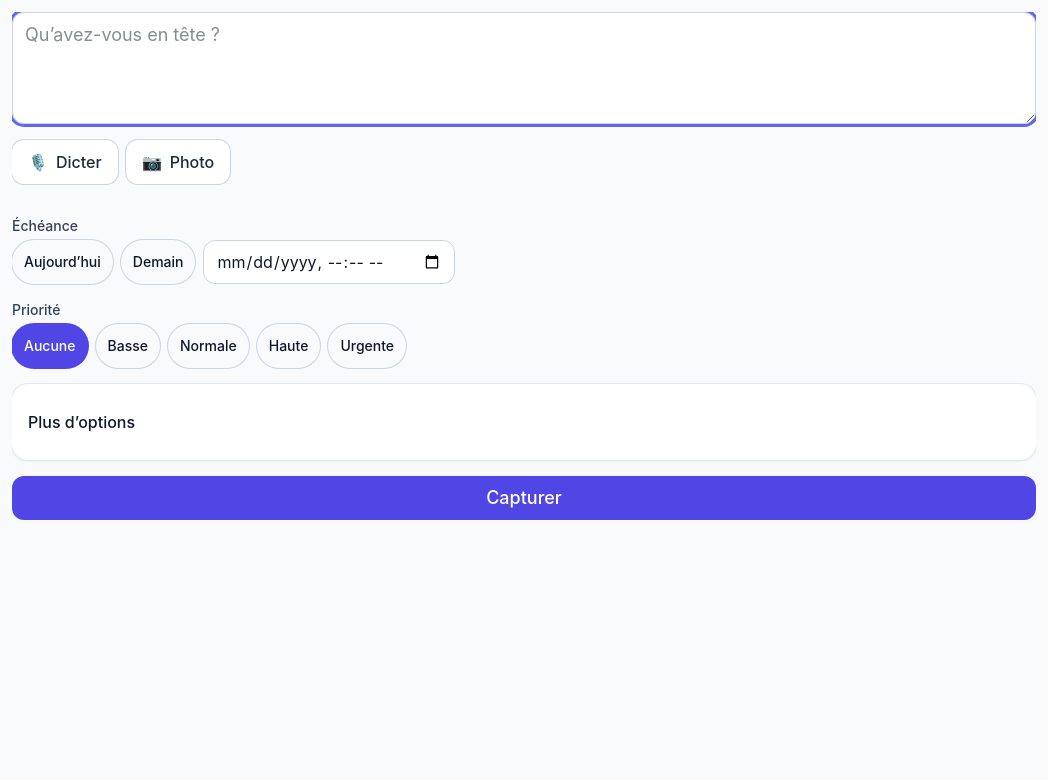
Scenario: CaptureForm › requires a title and focuses it
Click the button "Capturer" at (524, 498), box [12,476,1036,520]
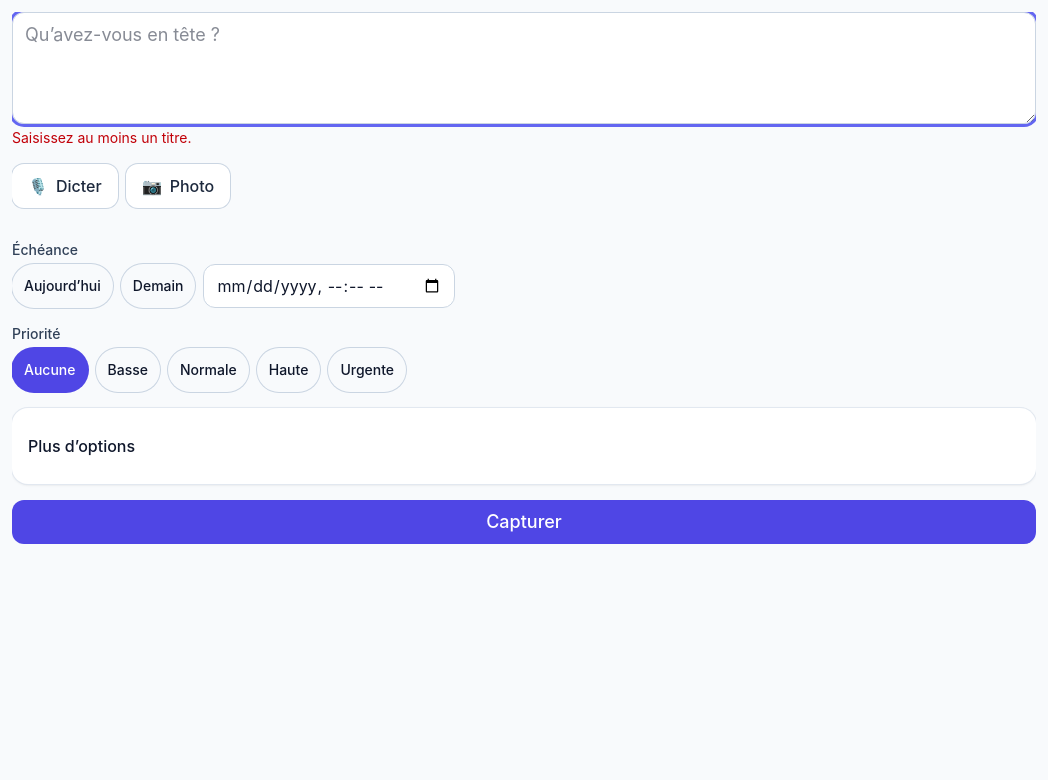
Check: the message reads "Saisissez au moins un titre.", box [12,129,191,146]
